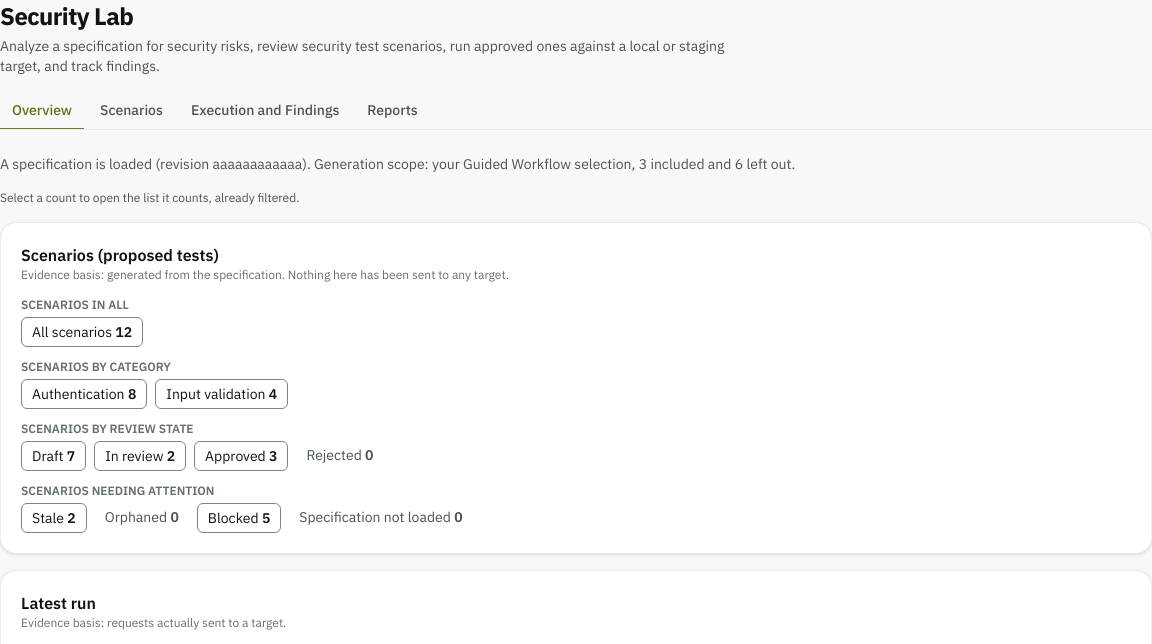
it: opening the list behind a count (SC-012) › starts the next visit by the tabs unfiltered
Click the button "Stale 2". click: (54, 518)
box: [21,503,87,533]
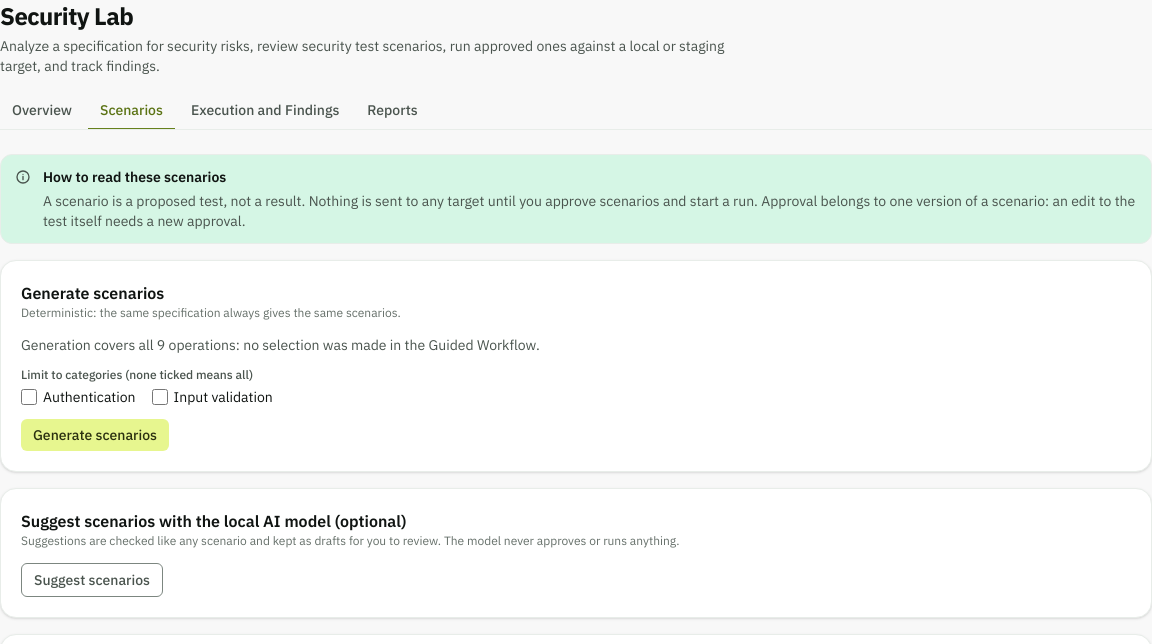
Click the button "Overview". click: (42, 111)
box: [0,92,84,130]
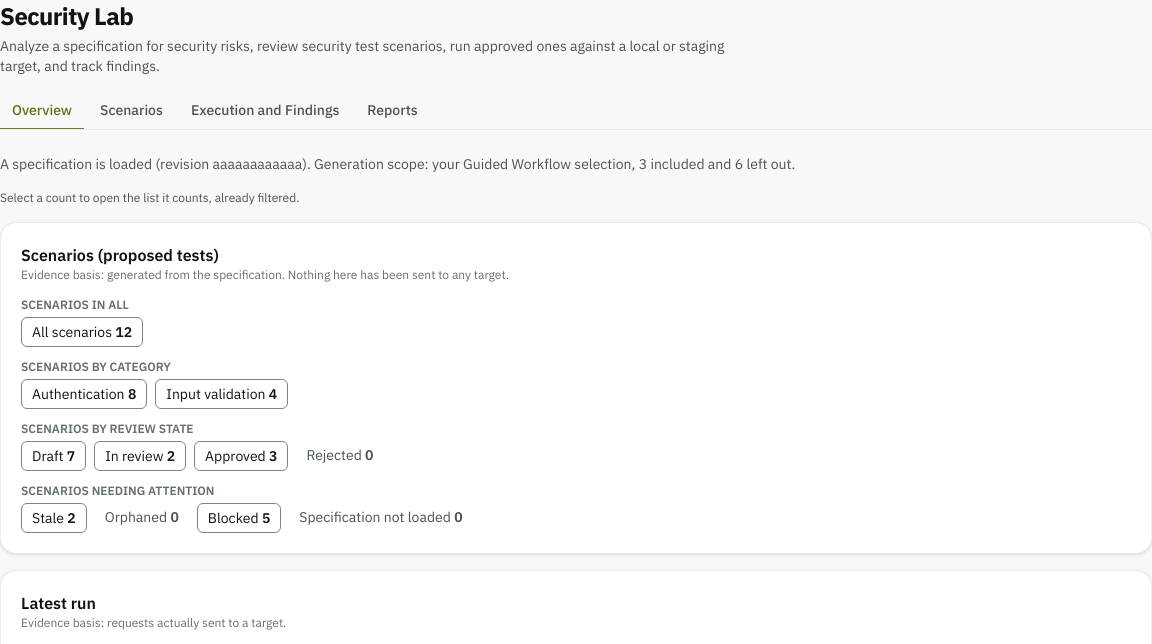
Click the button "Scenarios". click: (131, 111)
box: [88,92,175,130]
(page scrolled)
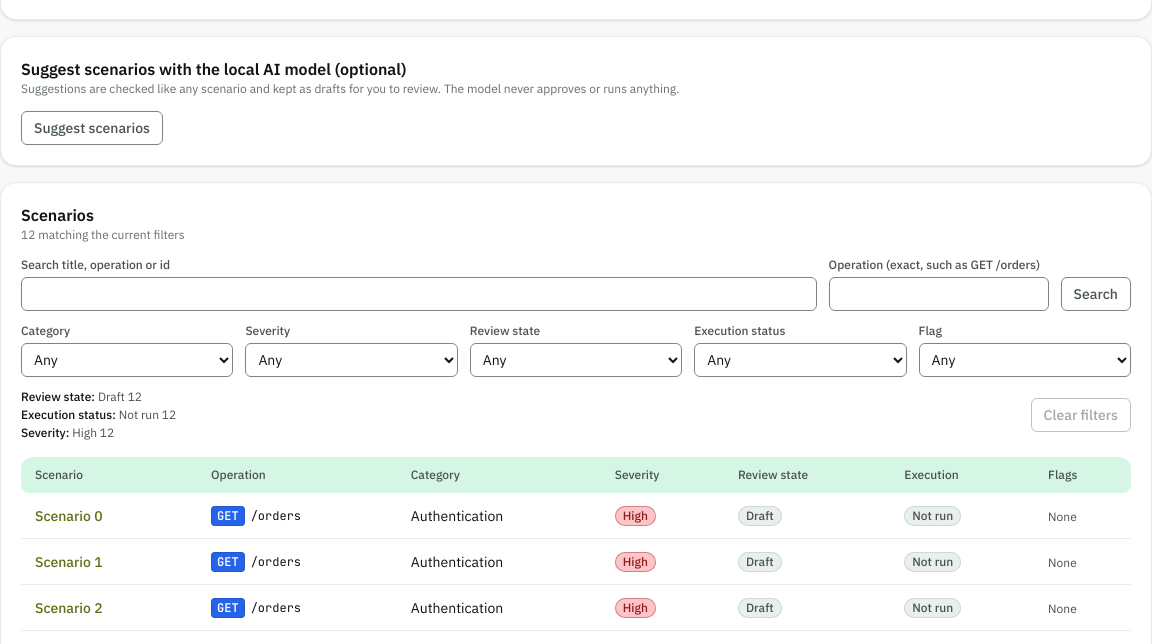
expect the dropdown labelled "Flag" shows "Any": met, box [919,343,1131,377]
